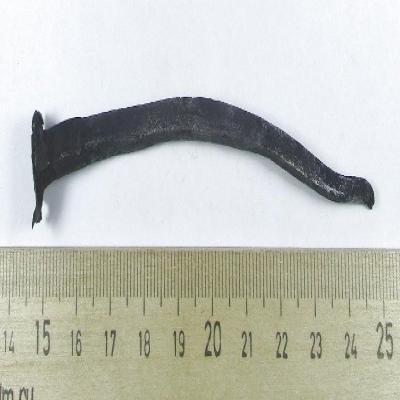archeology: (30, 98, 376, 224)
